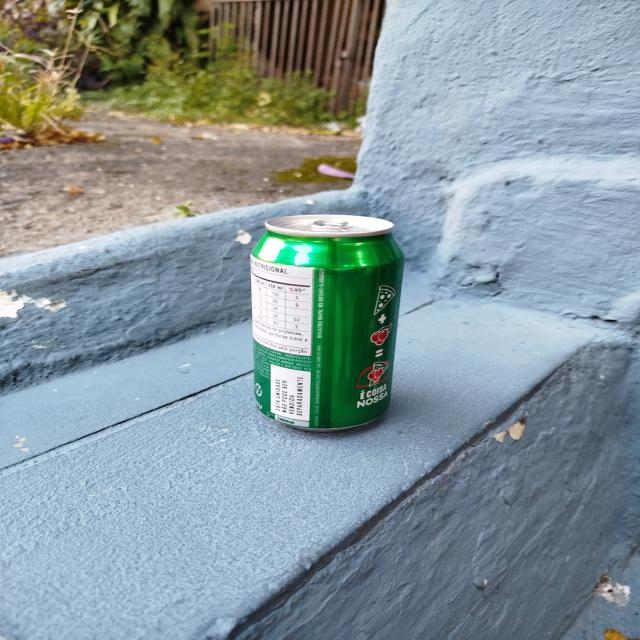Guarana: (250, 216, 408, 438)
